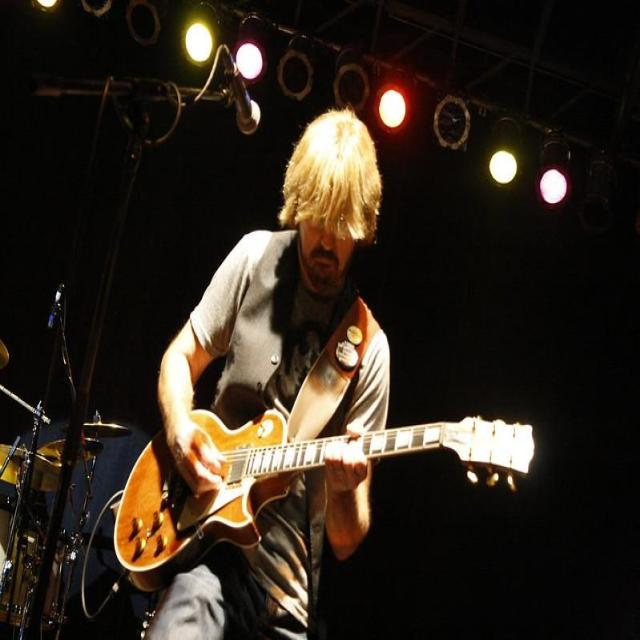guitar: (114, 410, 348, 590)
